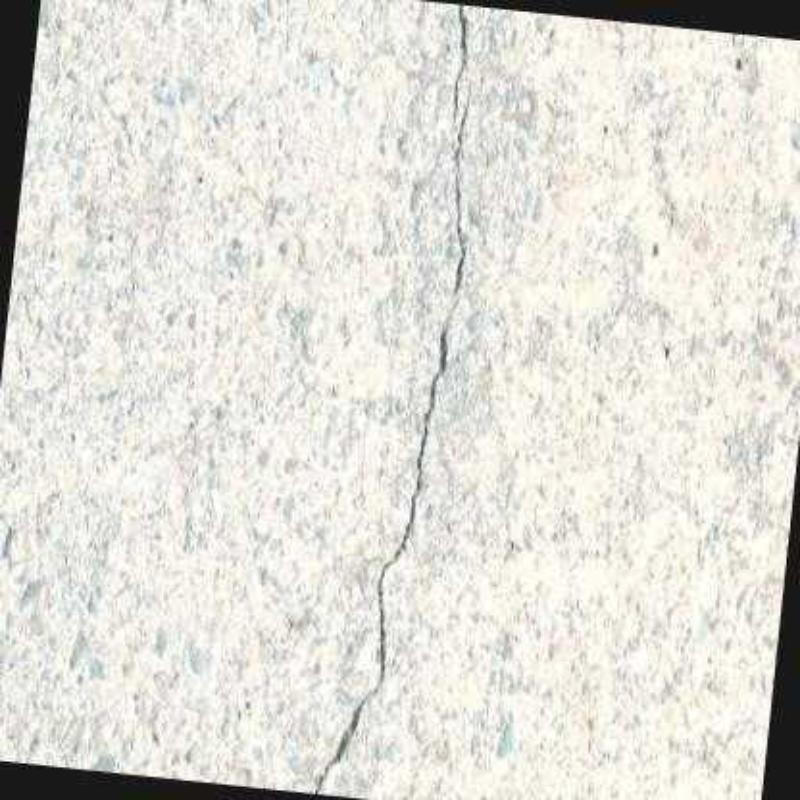pothole: (312, 326, 447, 793), (454, 97, 470, 293), (453, 4, 467, 118)
